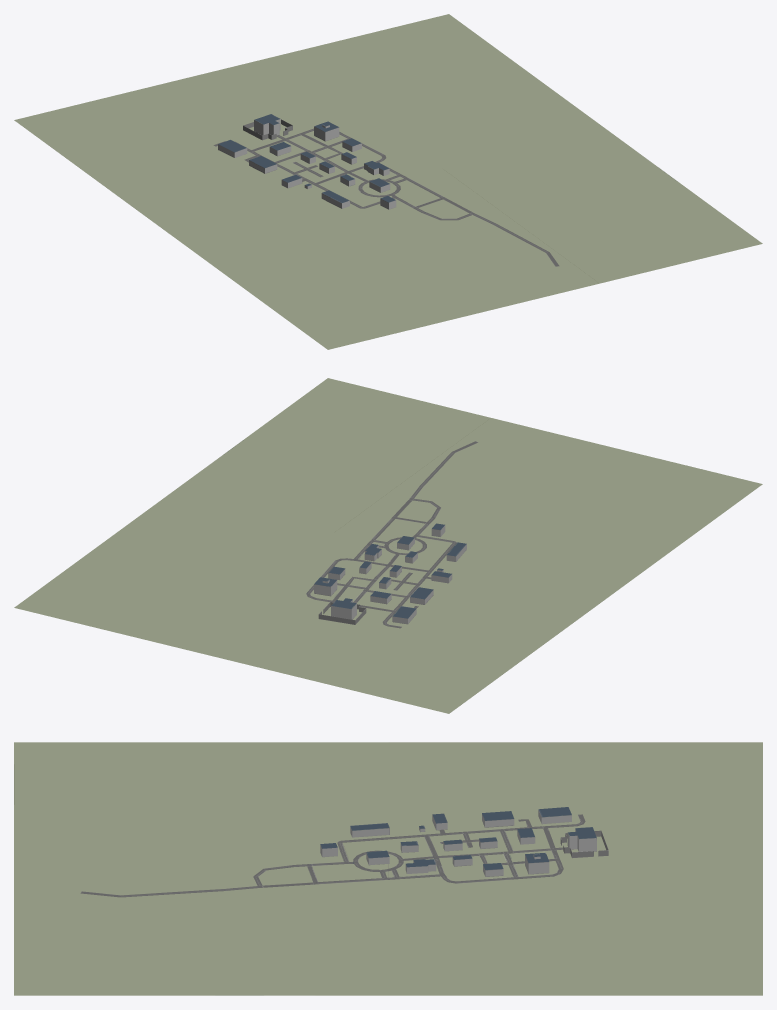
Rendered from map.obj.
3 views of the same model, one above another, from view 1: azimuth 30°, elevation 25°; view 2: azimuth 150°, elevation 25°; view 3: azimuth 270°, elevation 25° (orthographic). The views are drawn at different scales.
Parts seen in each view (by area): view 1: Road100; view 2: Road100; view 3: Road100.
Boxes of the visible parts, left/top/right/bottom form: Road100: left=14, top=14, right=762, bottom=349; Road100: left=14, top=378, right=762, bottom=713; Road100: left=14, top=742, right=762, bottom=995.
Bounding box in the file's own units: 480 × 12 × 600.
1 material, 1 textured.
